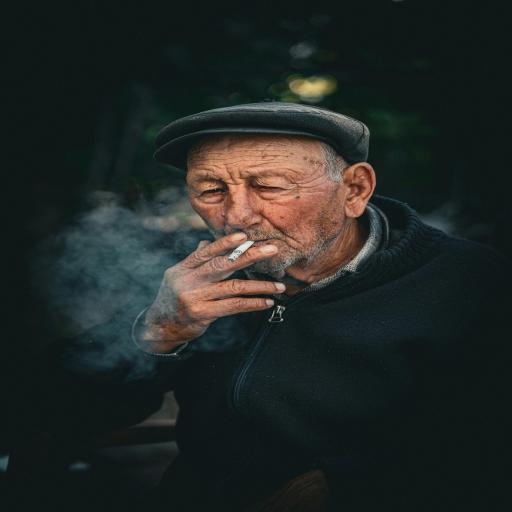terdeteksi merokok: (188, 151, 312, 278)
